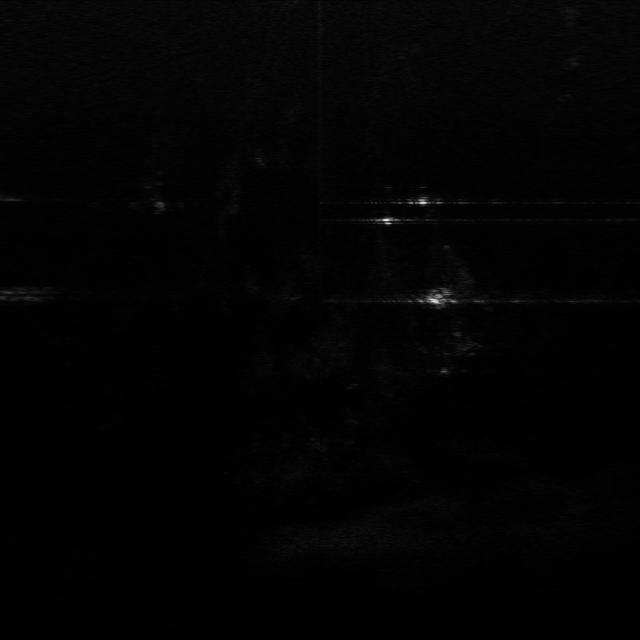rov: (418, 286, 453, 310)
